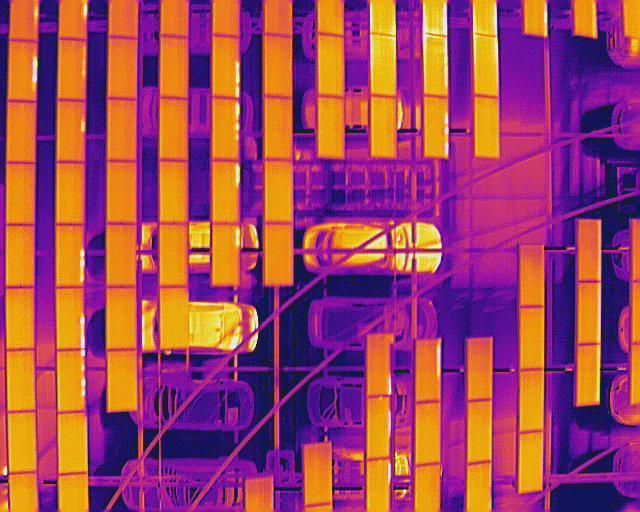Cell-Multi: (55, 350, 85, 413), (211, 160, 239, 225), (212, 97, 240, 160), (423, 92, 449, 157)
No-Anomaly: (263, 96, 293, 162), (316, 31, 345, 99), (107, 36, 138, 99), (5, 160, 35, 225), (263, 158, 292, 225), (5, 348, 35, 412), (106, 99, 136, 162), (106, 160, 136, 223), (5, 224, 35, 287), (106, 287, 136, 350), (107, 349, 137, 412), (56, 412, 86, 475), (159, 223, 188, 288), (317, 92, 344, 161), (105, 224, 135, 286), (159, 160, 188, 224), (6, 284, 34, 350), (7, 101, 36, 164), (6, 411, 35, 474), (264, 33, 292, 97), (370, 94, 397, 160), (159, 288, 188, 349), (57, 162, 85, 225), (160, 96, 187, 161), (304, 442, 331, 506), (160, 36, 187, 100), (58, 40, 86, 101), (414, 400, 441, 463), (265, 223, 291, 287), (518, 369, 544, 433), (466, 338, 492, 401), (475, 94, 500, 159), (466, 399, 491, 464), (517, 429, 542, 493), (576, 282, 601, 345), (575, 343, 600, 406), (519, 306, 543, 370), (519, 245, 544, 306), (577, 220, 601, 281)
Unclassified: (369, 31, 397, 98), (211, 223, 240, 286), (55, 287, 84, 350), (57, 98, 85, 163), (56, 222, 84, 287), (212, 35, 240, 100), (8, 40, 36, 103), (414, 338, 441, 402), (424, 31, 449, 99), (366, 334, 392, 397), (365, 398, 391, 460), (472, 33, 497, 96), (365, 460, 390, 511)
